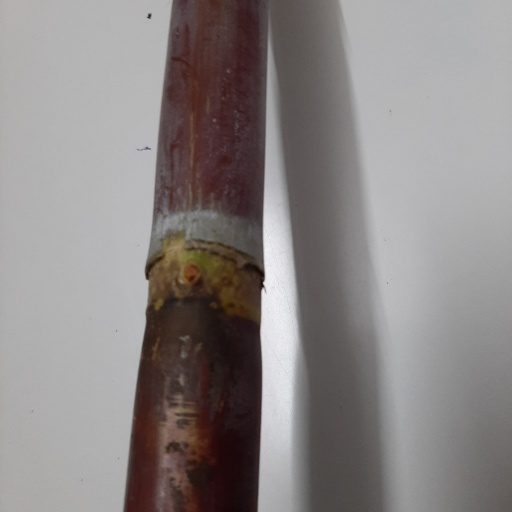Damage_Bud: (177, 262, 202, 289)
